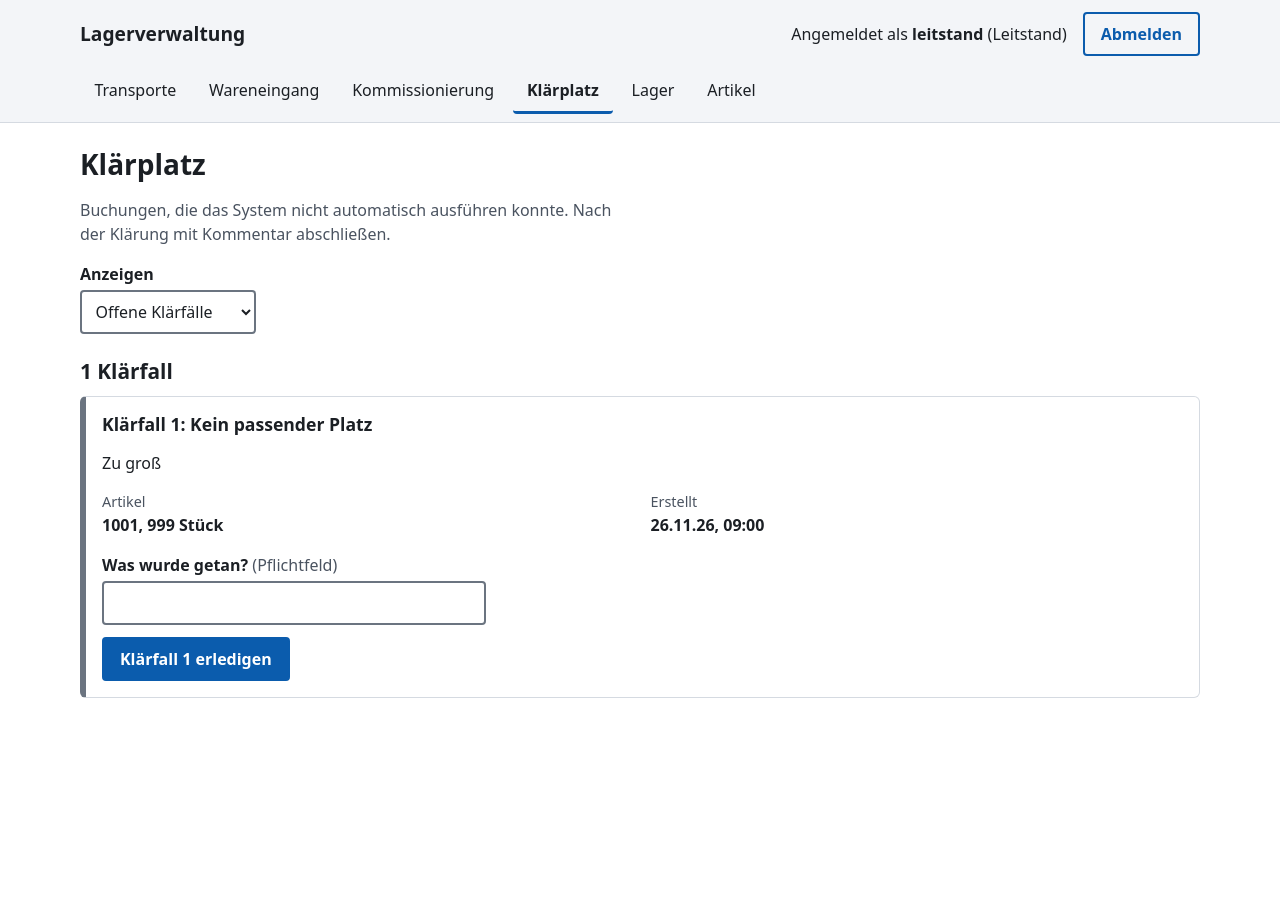
Test case: Klärplatz: Fall mit Kommentar erledigen
Type "Auf zwei Plätze verteilt" into the field labelled "Was wurde getan? (Pflichtfeld)".
click(294, 603); type("Auf zwei Plätze verteilt")  # box x1=102 y1=581 x2=486 y2=625
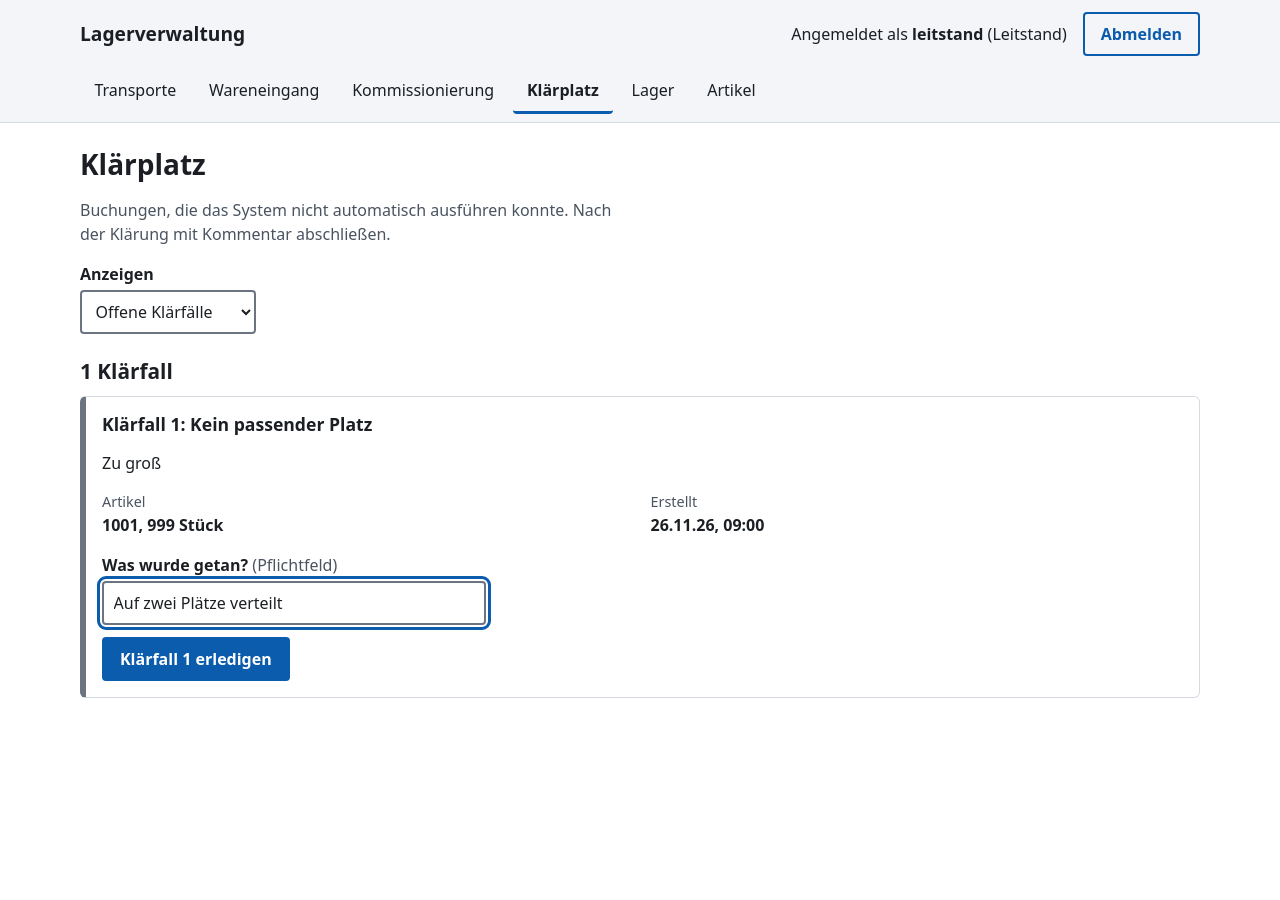
Click the button "Klärfall 1 erledigen".
click(196, 659)  # box x1=102 y1=637 x2=290 y2=681
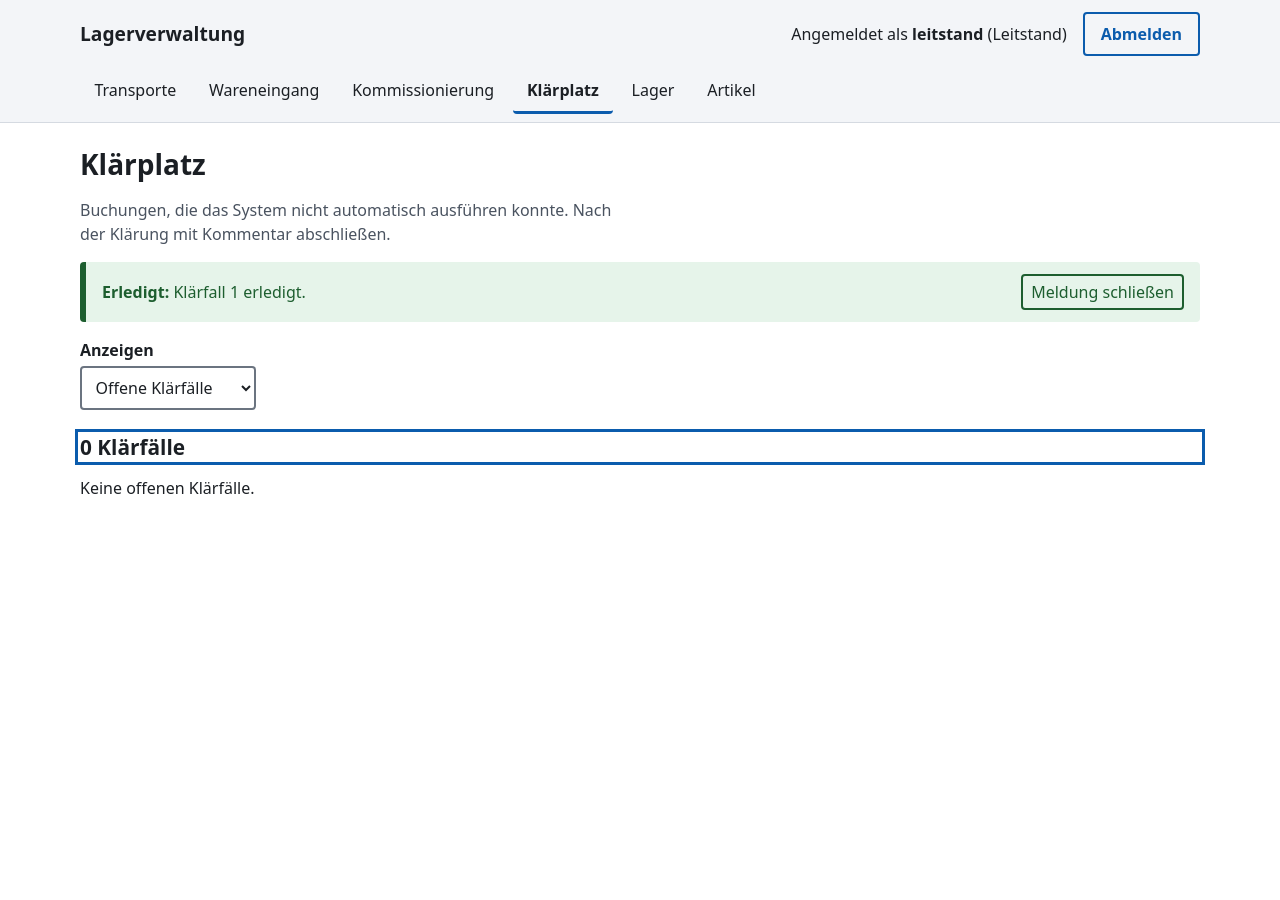
Expected: the text "Keine offenen Klärfälle." is shown, x1=80 y1=477 x2=254 y2=499
